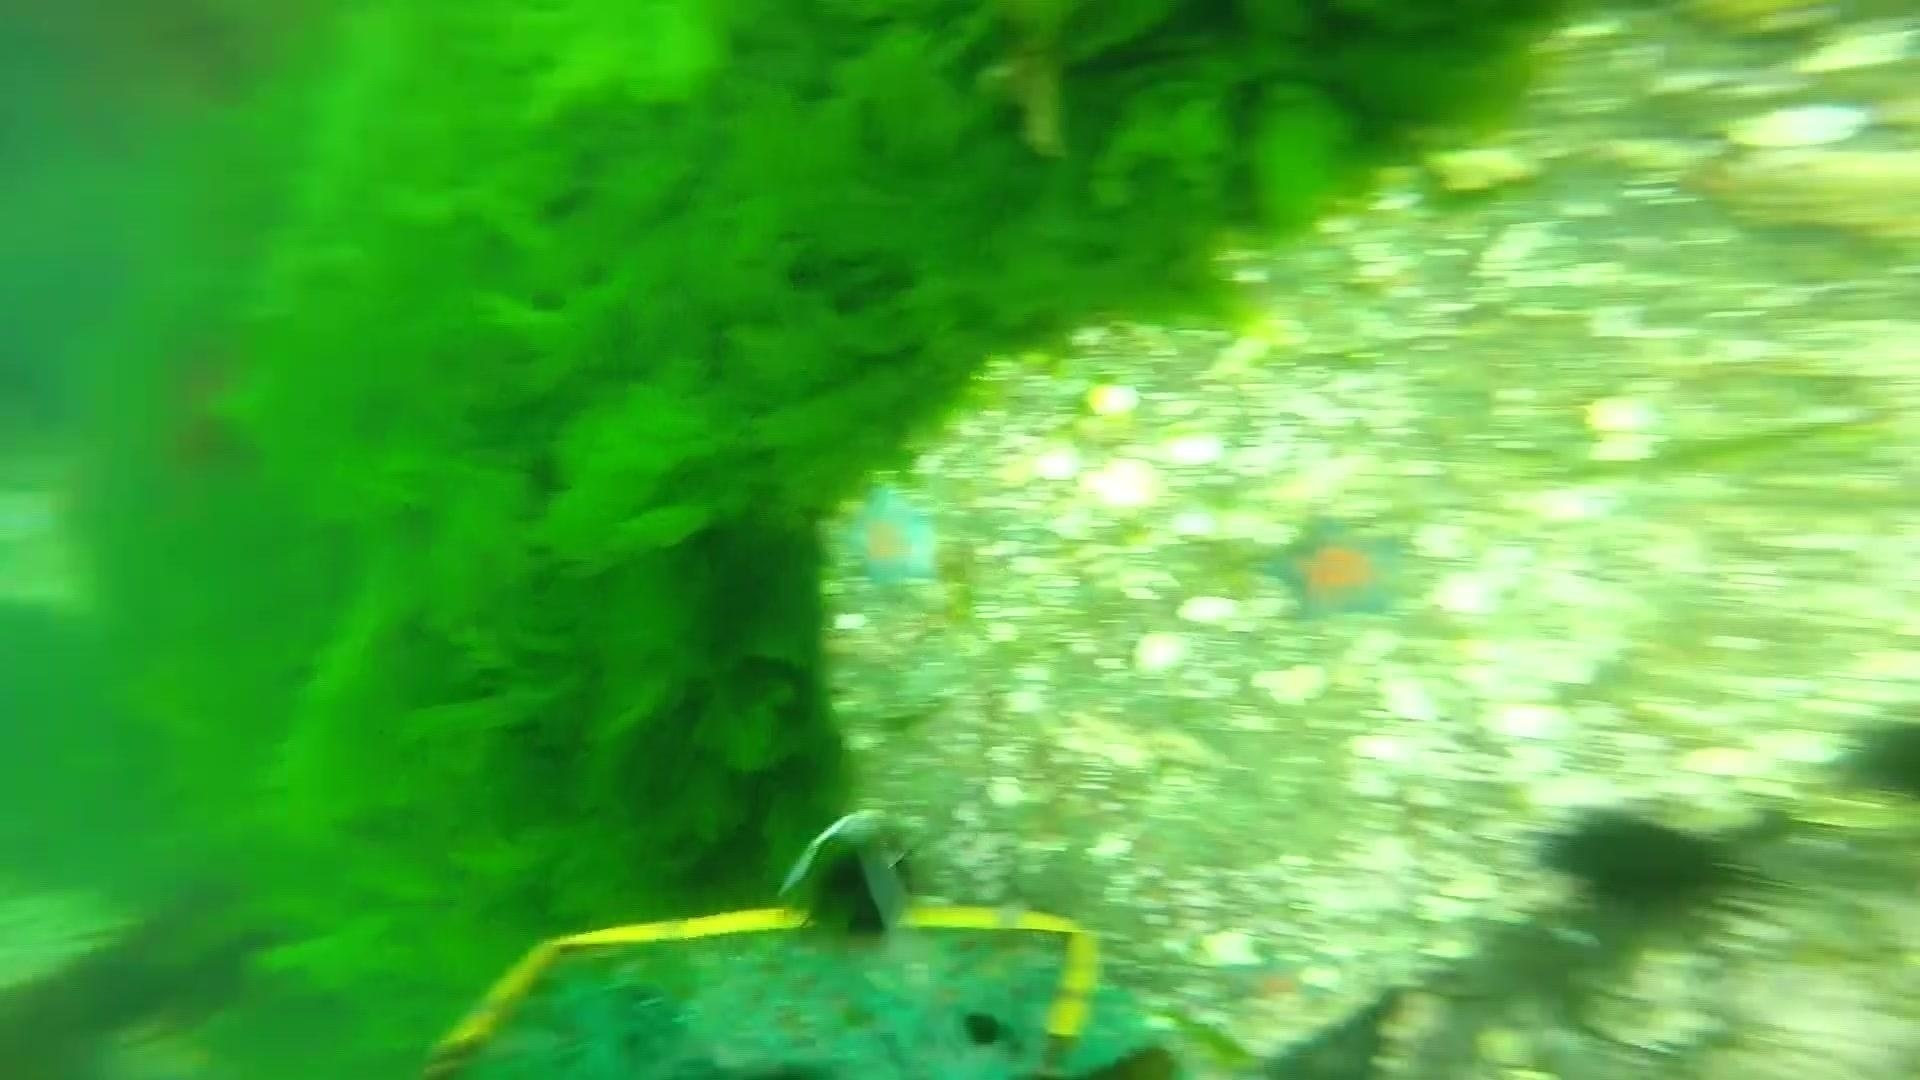echinus: (1536, 800, 1768, 939), (1838, 707, 1920, 807)
starfish: (1253, 510, 1422, 632), (825, 473, 953, 597), (1225, 944, 1325, 1007)
